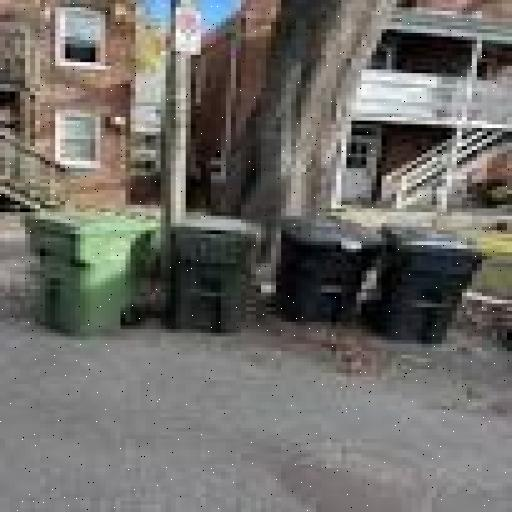poubelle_vide: (12, 207, 166, 353), (364, 216, 496, 354), (268, 210, 386, 334)
